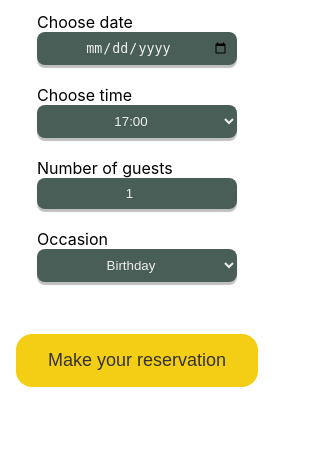
Scenario: Shows validation errors when submitting empty form
Replace the text in the number field labelled "Number of guests" with "0" at (137, 194), box left=37, top=178, right=237, bottom=209
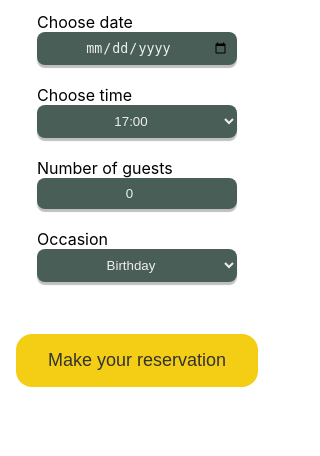
Click the button with aria-label "submit reservation" at (137, 361), box left=16, top=334, right=258, bottom=387
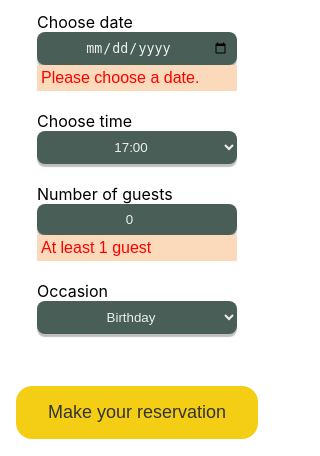
Check: the text "Please choose a date." is shown, box left=37, top=65, right=237, bottom=91
Check: the text "At least 1 guest" is shown, box left=37, top=235, right=237, bottom=261
